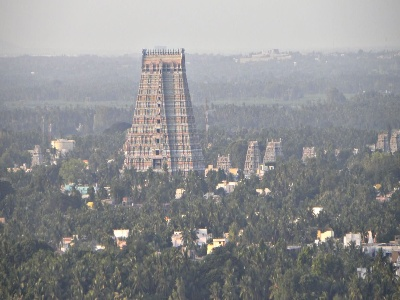gopura: (118, 59, 211, 176)
